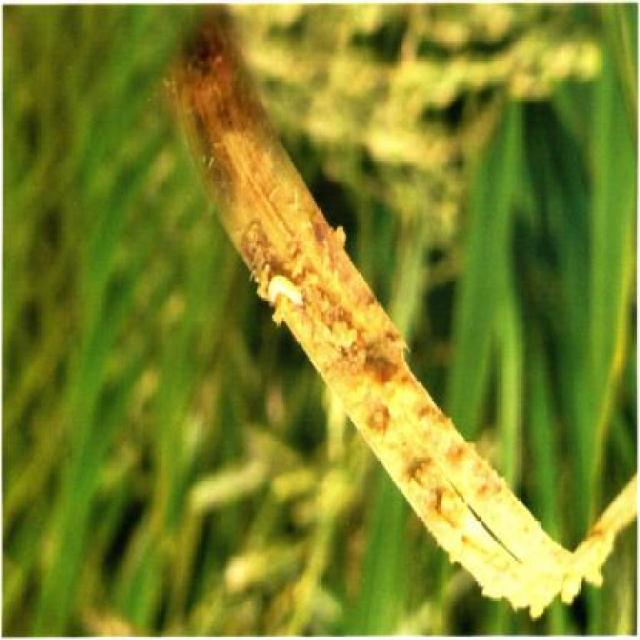whorl-maggot: (263, 268, 308, 320)
